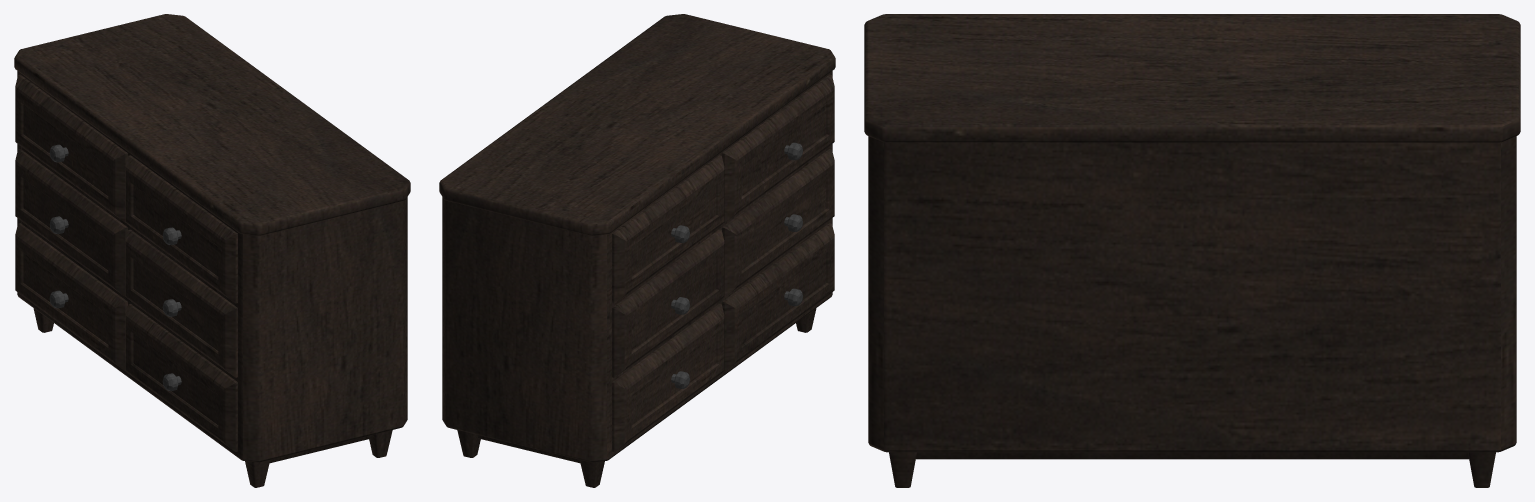
Rendered from wardrobe_2.obj.
3 renders of one model, left to right at view 1: azimuth 30°, elevation 25°; view 2: azimuth 150°, elevation 25°; view 3: azimuth 270°, elevation 25°, orthographic. The views are drawn at different scales.
Visible parts, largest first — view 1: wardrobe_2, wardrobe_1_drawer_6, wardrobe_1_drawer_5, wardrobe_1_drawer_4, wardrobe_1_drawer_1, wardrobe_1_drawer_2, wardrobe_1_drawer_3; view 2: wardrobe_2, wardrobe_1_drawer_3, wardrobe_1_drawer_2, wardrobe_1_drawer_1, wardrobe_1_drawer_4, wardrobe_1_drawer_5, wardrobe_1_drawer_6; view 3: wardrobe_2.
Part boxes in pixels (<box>): wardrobe_2: <box>14,14,410,487</box>; wardrobe_1_drawer_6: <box>125,155,237,303</box>; wardrobe_1_drawer_5: <box>125,229,237,377</box>; wardrobe_1_drawer_4: <box>125,304,237,451</box>; wardrobe_1_drawer_1: <box>15,223,127,371</box>; wardrobe_1_drawer_2: <box>15,149,127,296</box>; wardrobe_1_drawer_3: <box>15,74,127,222</box>; wardrobe_2: <box>439,14,835,487</box>; wardrobe_1_drawer_3: <box>612,155,724,303</box>; wardrobe_1_drawer_2: <box>612,229,724,377</box>; wardrobe_1_drawer_1: <box>612,304,724,451</box>; wardrobe_1_drawer_4: <box>722,223,834,371</box>; wardrobe_1_drawer_5: <box>722,149,834,296</box>; wardrobe_1_drawer_6: <box>722,74,834,222</box>; wardrobe_2: <box>864,14,1520,487</box>.
Bounding box in the file's own units: 0.78 × 1.07 × 1.7.
